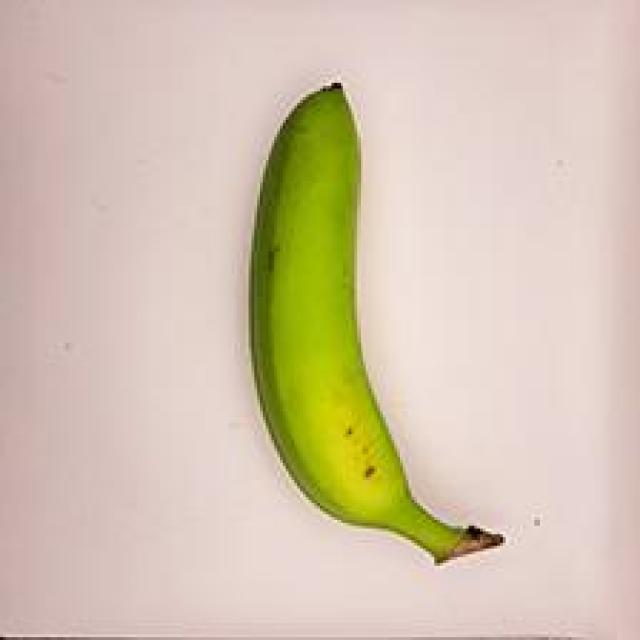Unripe: (200, 36, 524, 604)
